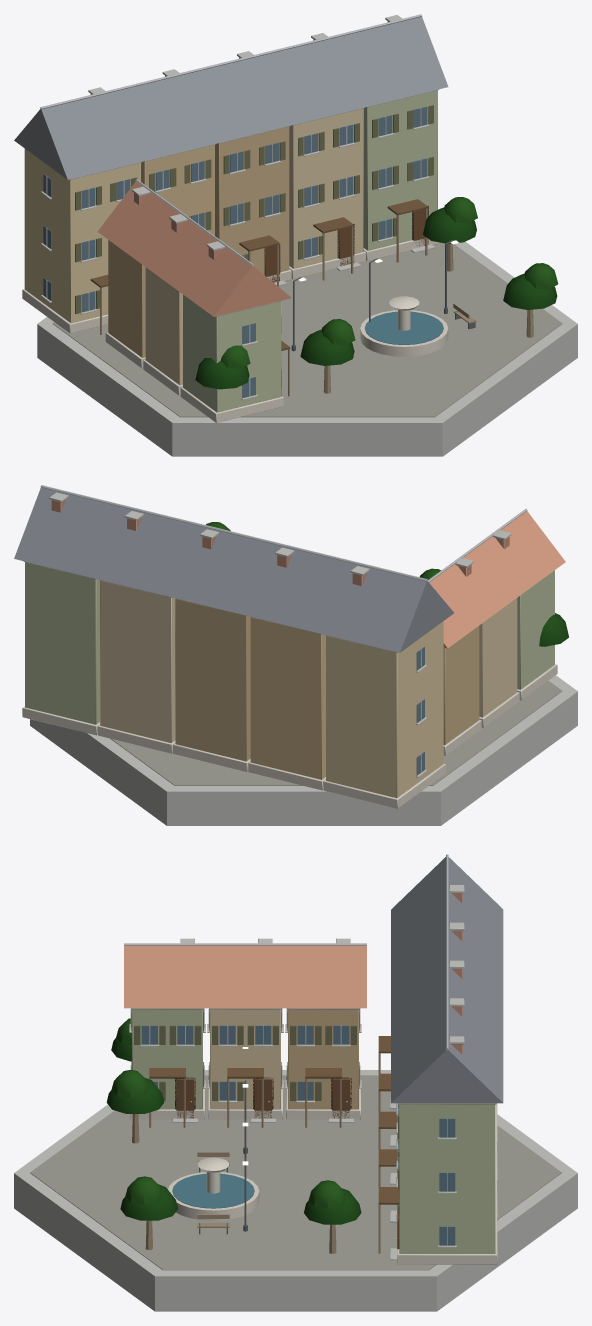
File: residential.glb
3 views of the same model, one above another, from view 1: azimuth 30°, elevation 25°; view 2: azimuth 150°, elevation 25°; view 3: azimuth 270°, elevation 25° (orthographic). The views are drawn at different scales.
Parts seen in each view (by area): view 1: plaster, pavers, roof_slate, wall_concrete, roof_tile, wood, glass, leaf, stone, metal, steel_dark; view 2: plaster, roof_slate, wall_concrete, roof_tile, stone, pavers, metal, leaf, brick, glass; view 3: pavers, wall_concrete, plaster, roof_slate, roof_tile, wood, leaf, glass, stone, metal.
Part boxes in pixels (<box>): plaster: <box>24,90,437,412</box>; pavers: <box>52,242,562,417</box>; roof_slate: <box>14,16,448,179</box>; wall_concrete: <box>37,15,577,456</box>; roof_tile: <box>97,181,291,316</box>; wood: <box>75,105,533,396</box>; glass: <box>43,106,443,397</box>; leaf: <box>195,197,558,389</box>; stone: <box>22,238,448,422</box>; metal: <box>40,14,422,266</box>; steel_dark: <box>291,239,475,357</box>; plaster: <box>25,562,554,798</box>; roof_slate: <box>14,487,453,652</box>; wall_concrete: <box>23,492,577,825</box>; roof_tile: <box>429,511,565,648</box>; stone: <box>22,664,557,808</box>; pavers: <box>111,680,562,785</box>; metal: <box>40,485,527,582</box>; leaf: <box>206,522,568,646</box>; brick: <box>51,499,509,585</box>; glass: <box>416,647,424,775</box>; pavers: <box>30,1075,561,1270</box>; wall_concrete: <box>14,885,577,1311</box>; plaster: <box>132,1009,495,1253</box>; roof_slate: <box>391,857,503,1103</box>; roof_tile: <box>124,945,366,1008</box>; wood: <box>132,1025,399,1253</box>; leaf: <box>106,1018,361,1224</box>; glass: <box>131,1009,455,1245</box>; stone: <box>130,1076,497,1264</box>; metal: <box>124,854,448,1050</box>.
Bounding box in the file's own units: 21.3 × 12.29 × 24.6.
